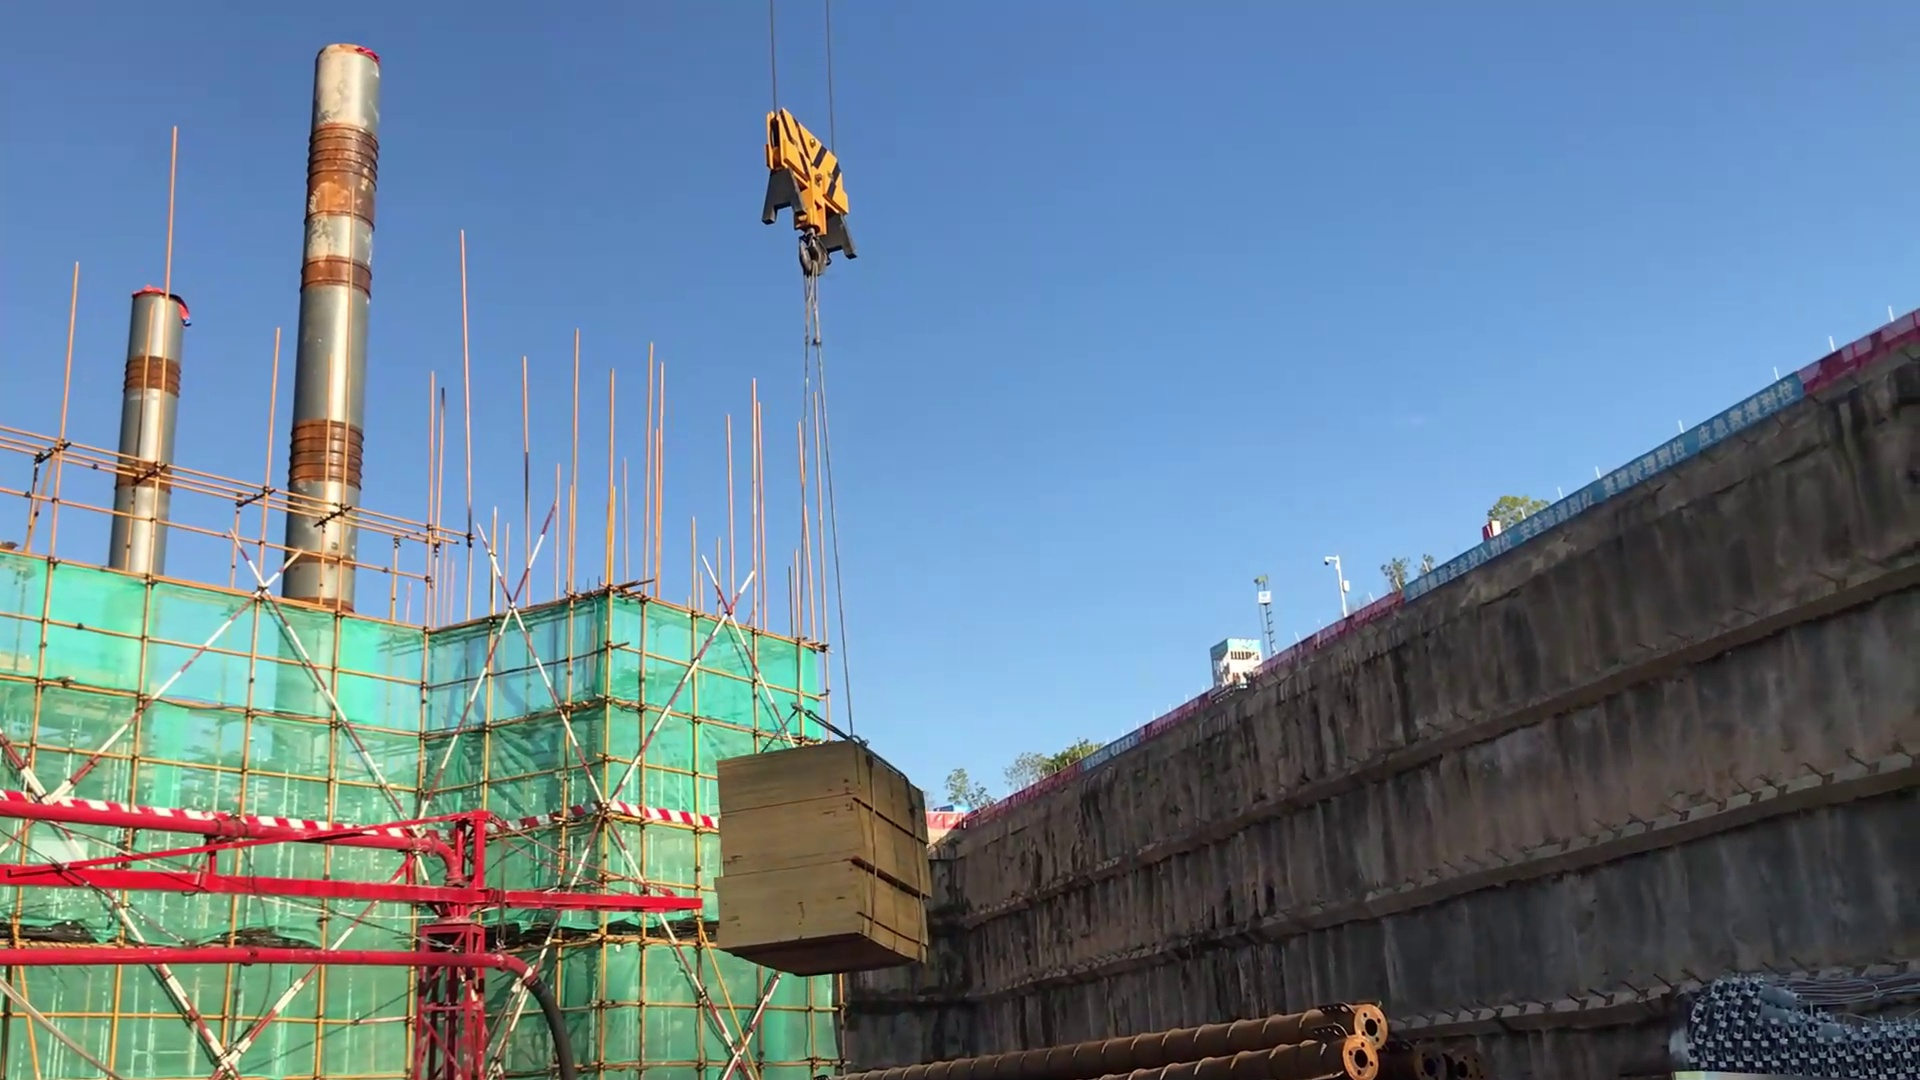board: (715, 733, 934, 963)
hook: (735, 102, 898, 427)
scaffold: (1669, 956, 1920, 1077)
slogan: (1377, 363, 1801, 632), (1069, 719, 1145, 777)
